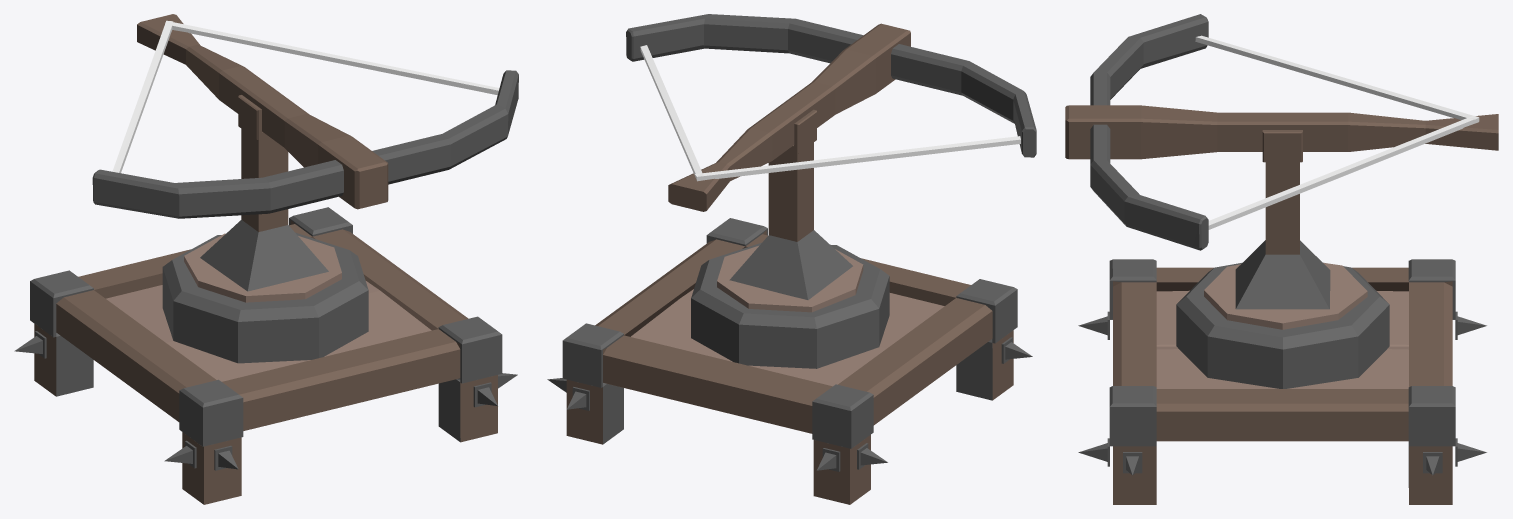
Rendered from BALLESTA.fbx.
The picture shows the model from 3 angles, left to right: view 1: azimuth 30°, elevation 25°; view 2: azimuth 150°, elevation 25°; view 3: azimuth 270°, elevation 25°; orthographic projection. The views are drawn at different scales.
Parts seen in each view (by area): view 1: BALLESTA; view 2: BALLESTA; view 3: BALLESTA.
Boxes of the visible parts, x1,y1,x2,y2 form: BALLESTA: (14, 14, 518, 504); BALLESTA: (547, 14, 1036, 504); BALLESTA: (1065, 14, 1498, 504).
Size of the model in its own units: 1020 by 734 by 900.
